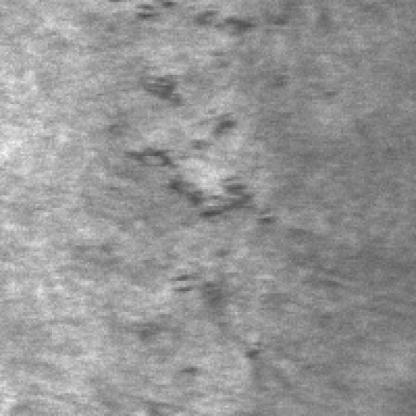rolled-in_scale: (134, 0, 271, 222), (133, 244, 273, 378)
